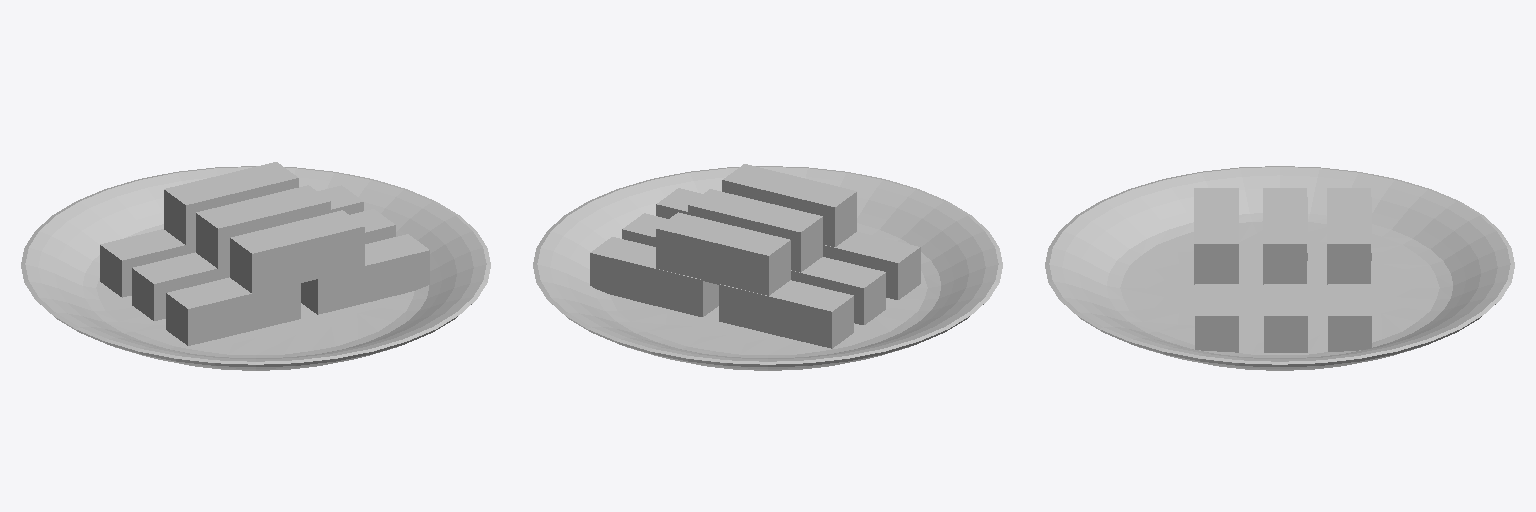
The model's file is kue jipang.obj.
3 views of the same model, side by side, from view 1: azimuth 30°, elevation 25°; view 2: azimuth 150°, elevation 25°; view 3: azimuth 270°, elevation 25° (orthographic).
Visible parts, largest first — view 1: Cylinder, Cube.008, Cube.002, Cube.005, Cube.007, Cube.006, Cube.001, Cube, Cube.004, Cube.003; view 2: Cylinder, Cube.006, Cube, Cube.003, Cube.008, Cube.007, Cube.002, Cube.001, Cube.004, Cube.005; view 3: Cylinder, Cube.008, Cube.006, Cube.007, Cube.004, Cube.005, Cube.003.
Boxes of the visible parts, x1,y1,x2,y2 form: Cylinder: [21, 166, 490, 370]; Cube.008: [230, 210, 364, 294]; Cube.002: [166, 277, 300, 345]; Cube.005: [301, 234, 429, 314]; Cube.007: [196, 185, 330, 269]; Cube.006: [164, 162, 298, 245]; Cube.001: [132, 252, 229, 320]; Cube: [100, 229, 195, 297]; Cube.004: [350, 209, 395, 243]; Cube.003: [317, 185, 363, 214]; Cylinder: [533, 166, 1002, 370]; Cube.006: [656, 212, 790, 295]; Cube: [719, 280, 853, 348]; Cube.003: [590, 237, 718, 316]; Cube.008: [722, 164, 856, 246]; Cube.007: [688, 189, 822, 272]; Cube.002: [823, 232, 920, 299]; Cube.001: [791, 257, 885, 324]; Cube.004: [622, 213, 667, 246]; Cube.005: [656, 188, 701, 218]; Cylinder: [1045, 166, 1514, 370]; Cube.008: [1194, 188, 1238, 284]; Cube.006: [1327, 188, 1370, 284]; Cube.007: [1263, 188, 1306, 284]; Cube.004: [1264, 261, 1307, 352]; Cube.005: [1195, 284, 1238, 352]; Cube.003: [1328, 261, 1371, 351].
Size of the model in its own units: 2.31 by 0.4844 by 2.31.